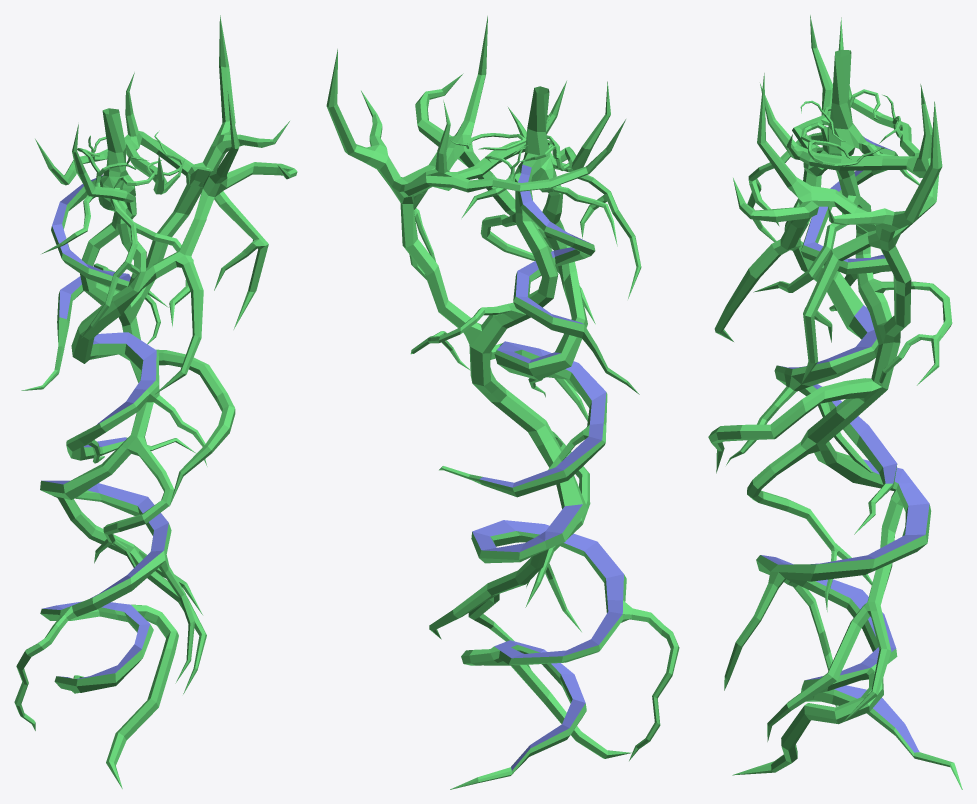
File: Transition_Tree.fbx
3 renders of one model, left to right at view 1: azimuth 30°, elevation 25°; view 2: azimuth 150°, elevation 25°; view 3: azimuth 270°, elevation 25°, orthographic. The views are drawn at different scales.
Visible parts, largest first — view 1: Tree_Transition; view 2: Tree_Transition; view 3: Tree_Transition.
Boxes of the visible parts, box(x1,y1,x2,y2) form: Tree_Transition: box(14, 15, 297, 788); Tree_Transition: box(326, 16, 679, 789); Tree_Transition: box(708, 15, 962, 789).
Size of the model in its own units: 2730 by 6206 by 1832.
